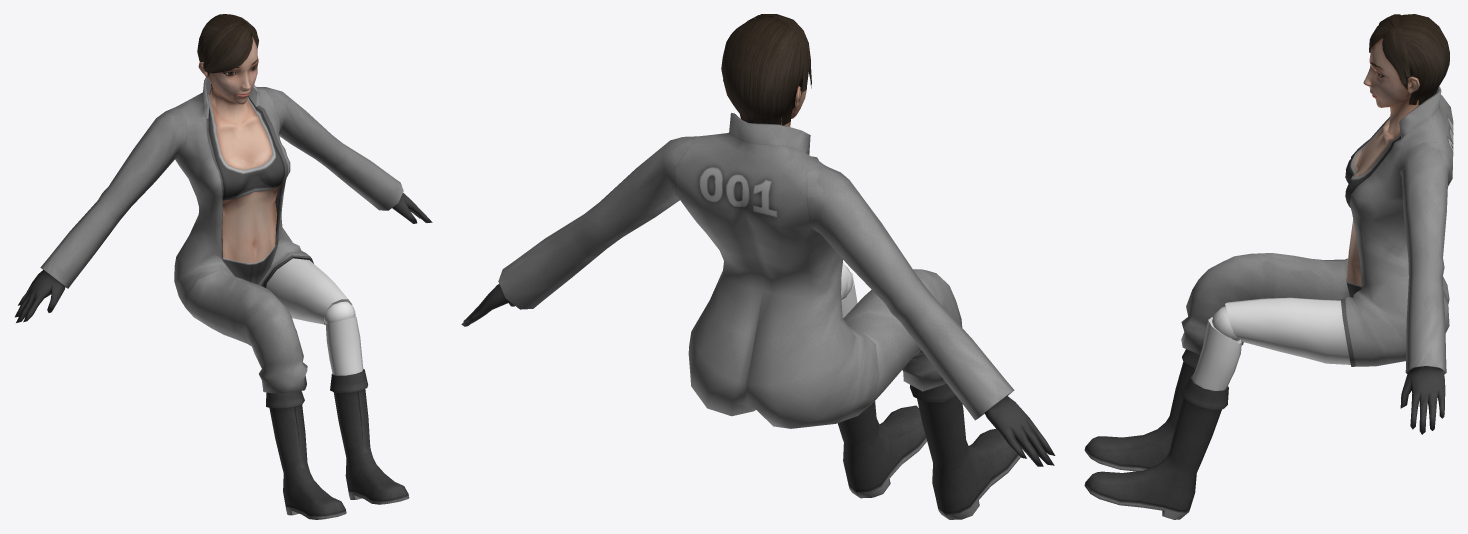
File: player.fbx
The picture shows the model from 3 angles, left to right: view 1: azimuth 30°, elevation 25°; view 2: azimuth 150°, elevation 25°; view 3: azimuth 270°, elevation 25°; orthographic projection. The views are drawn at different scales.
Visible parts, largest first — view 1: player; view 2: player; view 3: player.
Boxes of the visible parts, bbox=[...] form: player: bbox=[15, 14, 432, 519]; player: bbox=[461, 14, 1055, 519]; player: bbox=[1084, 14, 1453, 519].
Bounding box in the file's own units: 64 × 61.06 × 42.35.
Materials: 1 (1 with a texture image).
